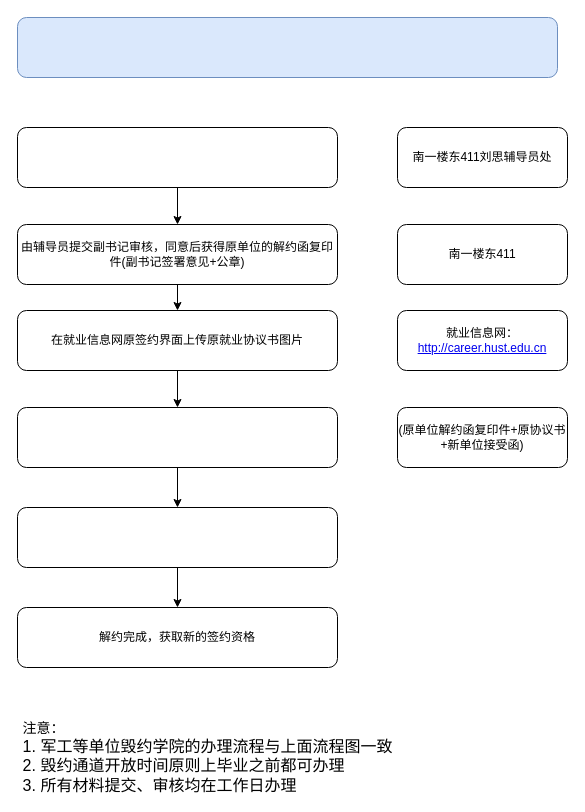
This 585x812 diagram has some shape labels left out. Here are the shapes that lost their labels. From the top down, the box of each, then its label:
(16, 16, 558, 78): 2021年电子信息与通信学院网上毁约办理流程图
(16, 126, 338, 188): 本人提交一份400字以上的毁约说明
(16, 406, 338, 468): 在个人中心-违约申请上传3个文件
(16, 506, 338, 568): 院系辅导员审批+就业指导中心审核通过
